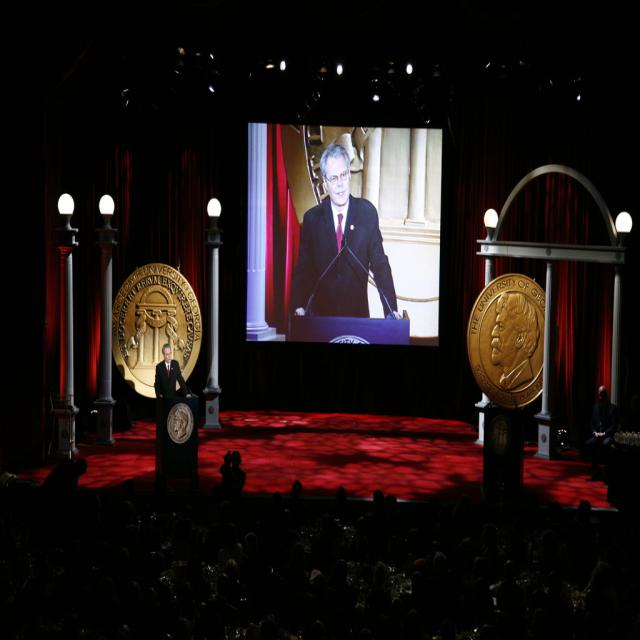Coin: (111, 261, 204, 398), (465, 271, 548, 412)
